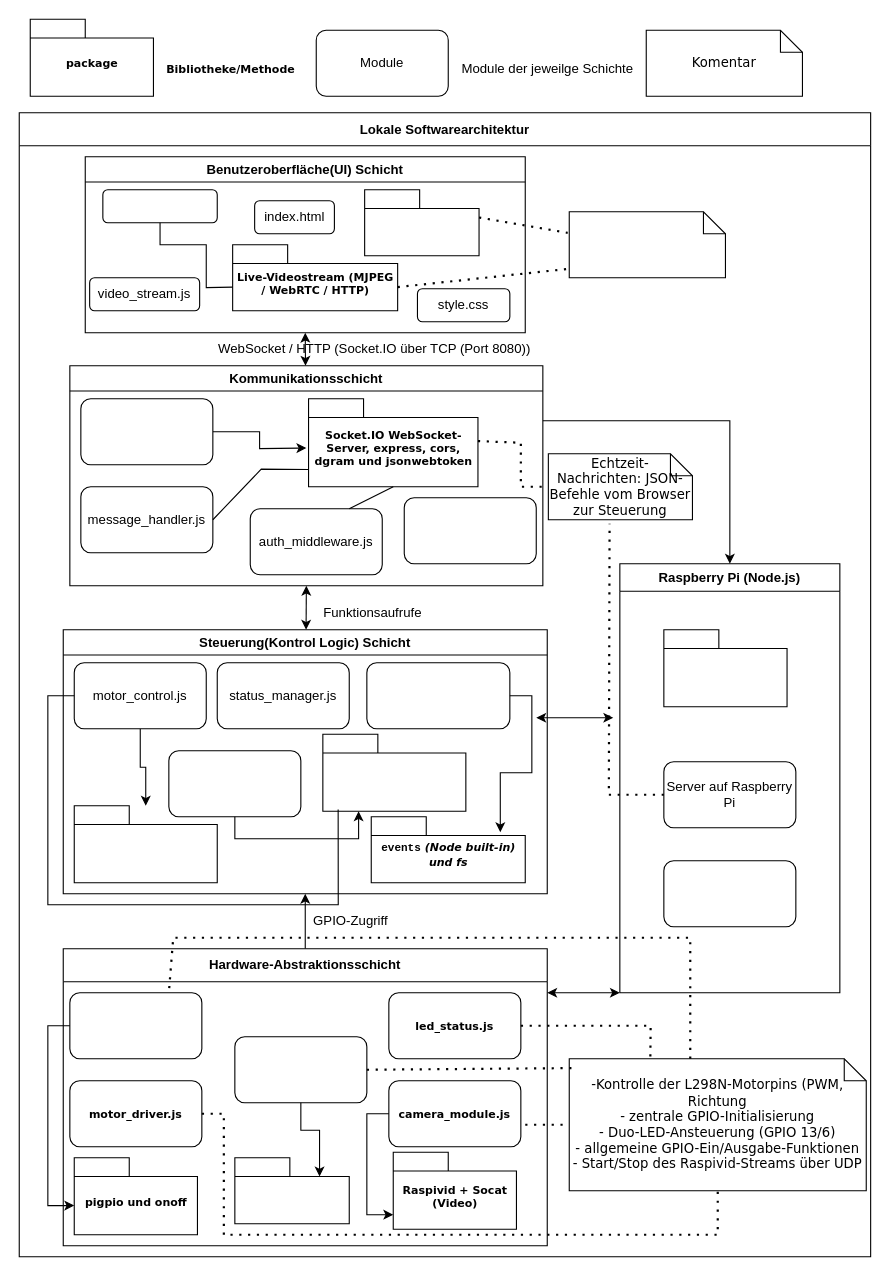
The diagram is 890 pixels wide and 1276 high, and some of its shapes have lost their labels. The shapes that lost their labels are listed below. From the top down, each one's centre as x and y in pixels, then its label:
the point at 159,206: socket_client.js
the point at 421,222: WebSocket-Clien t für Befehle (Socket.IO Client)
the point at 646,244: WebApp (HTML / JavaScript / CSS)
the point at 146,431: WebSocket Server
the point at 469,530: api_routes.js
the point at 725,668: - Socket.IO Server
the point at 438,695: obstacle_detection.js
the point at 234,783: auth_manager.js
the point at 394,772: pigpio, rpi-hcsr04 und jsonwebtoken (npm: jsonwebtoken
the point at 145,844: Methoden: forward() , backward() , left() , right() , stop()
the point at 729,893: GPIO, Kamera, PWM
the point at 135,1025: gpio_driver.js
the point at 300,1069: Sensor rpi.gpio.js
the point at 291,1190: rpi-hcsr04 und child_process
